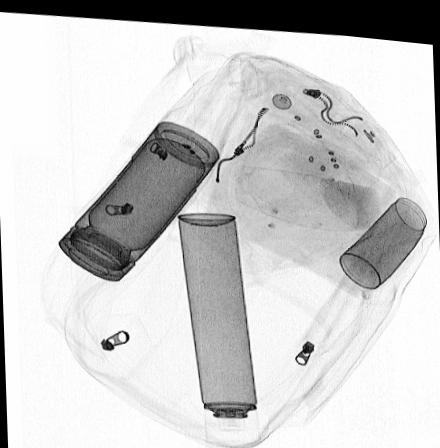Sprayer: (176, 207, 257, 441)
